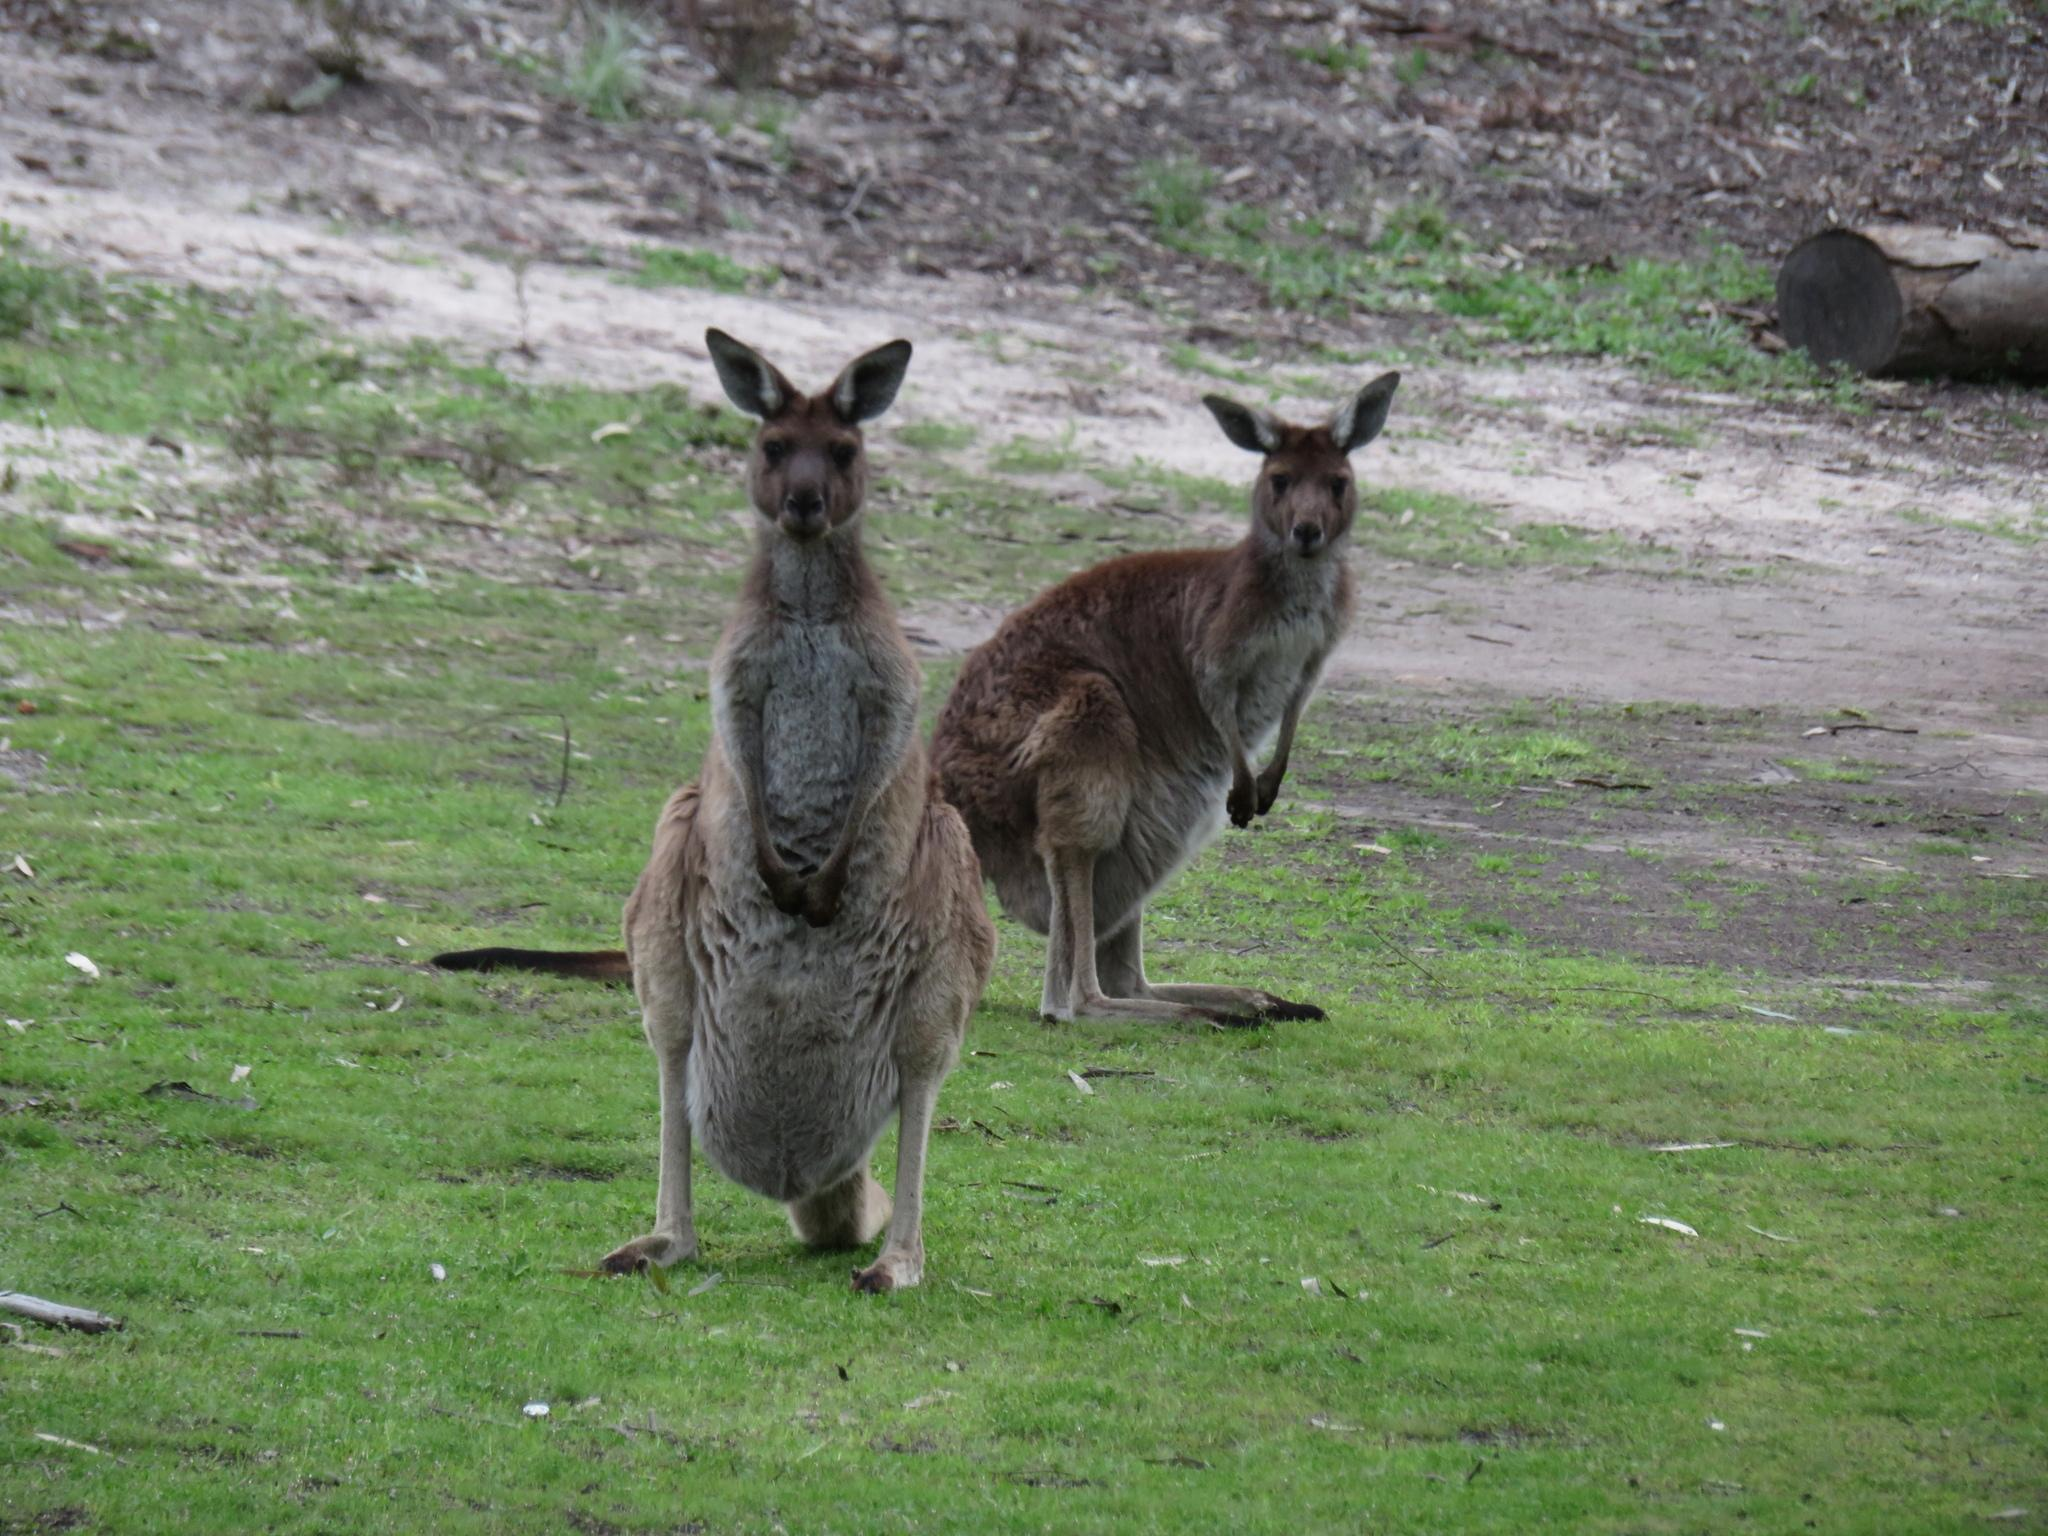Western grey kangaroo: (431, 366, 1413, 1041), (563, 319, 1001, 1296)
